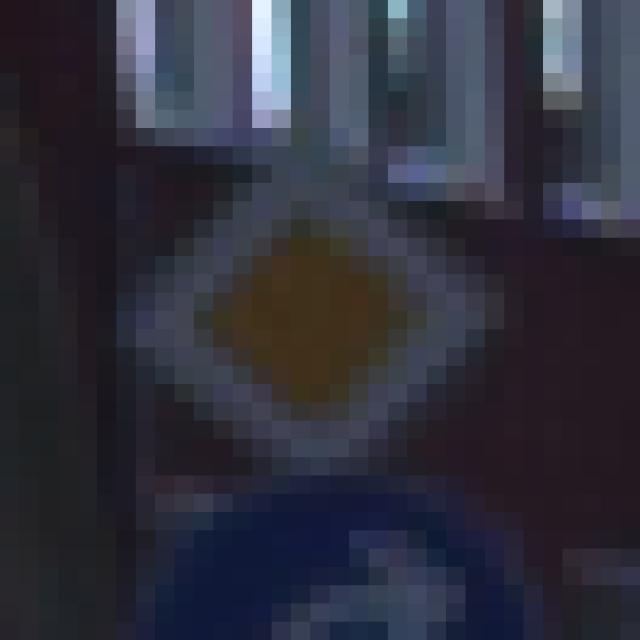Main Road: (98, 111, 544, 550)
